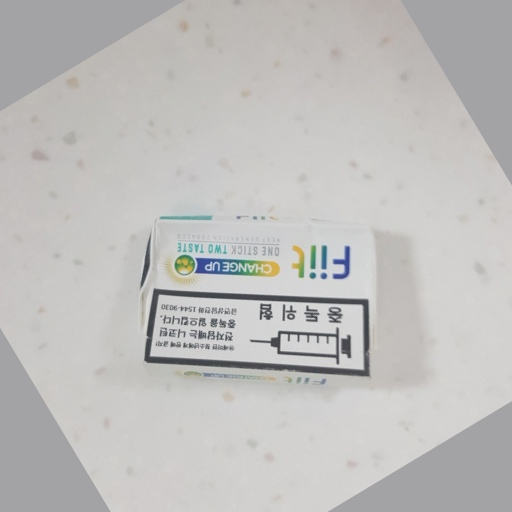Paper_0: (137, 203, 398, 397)
